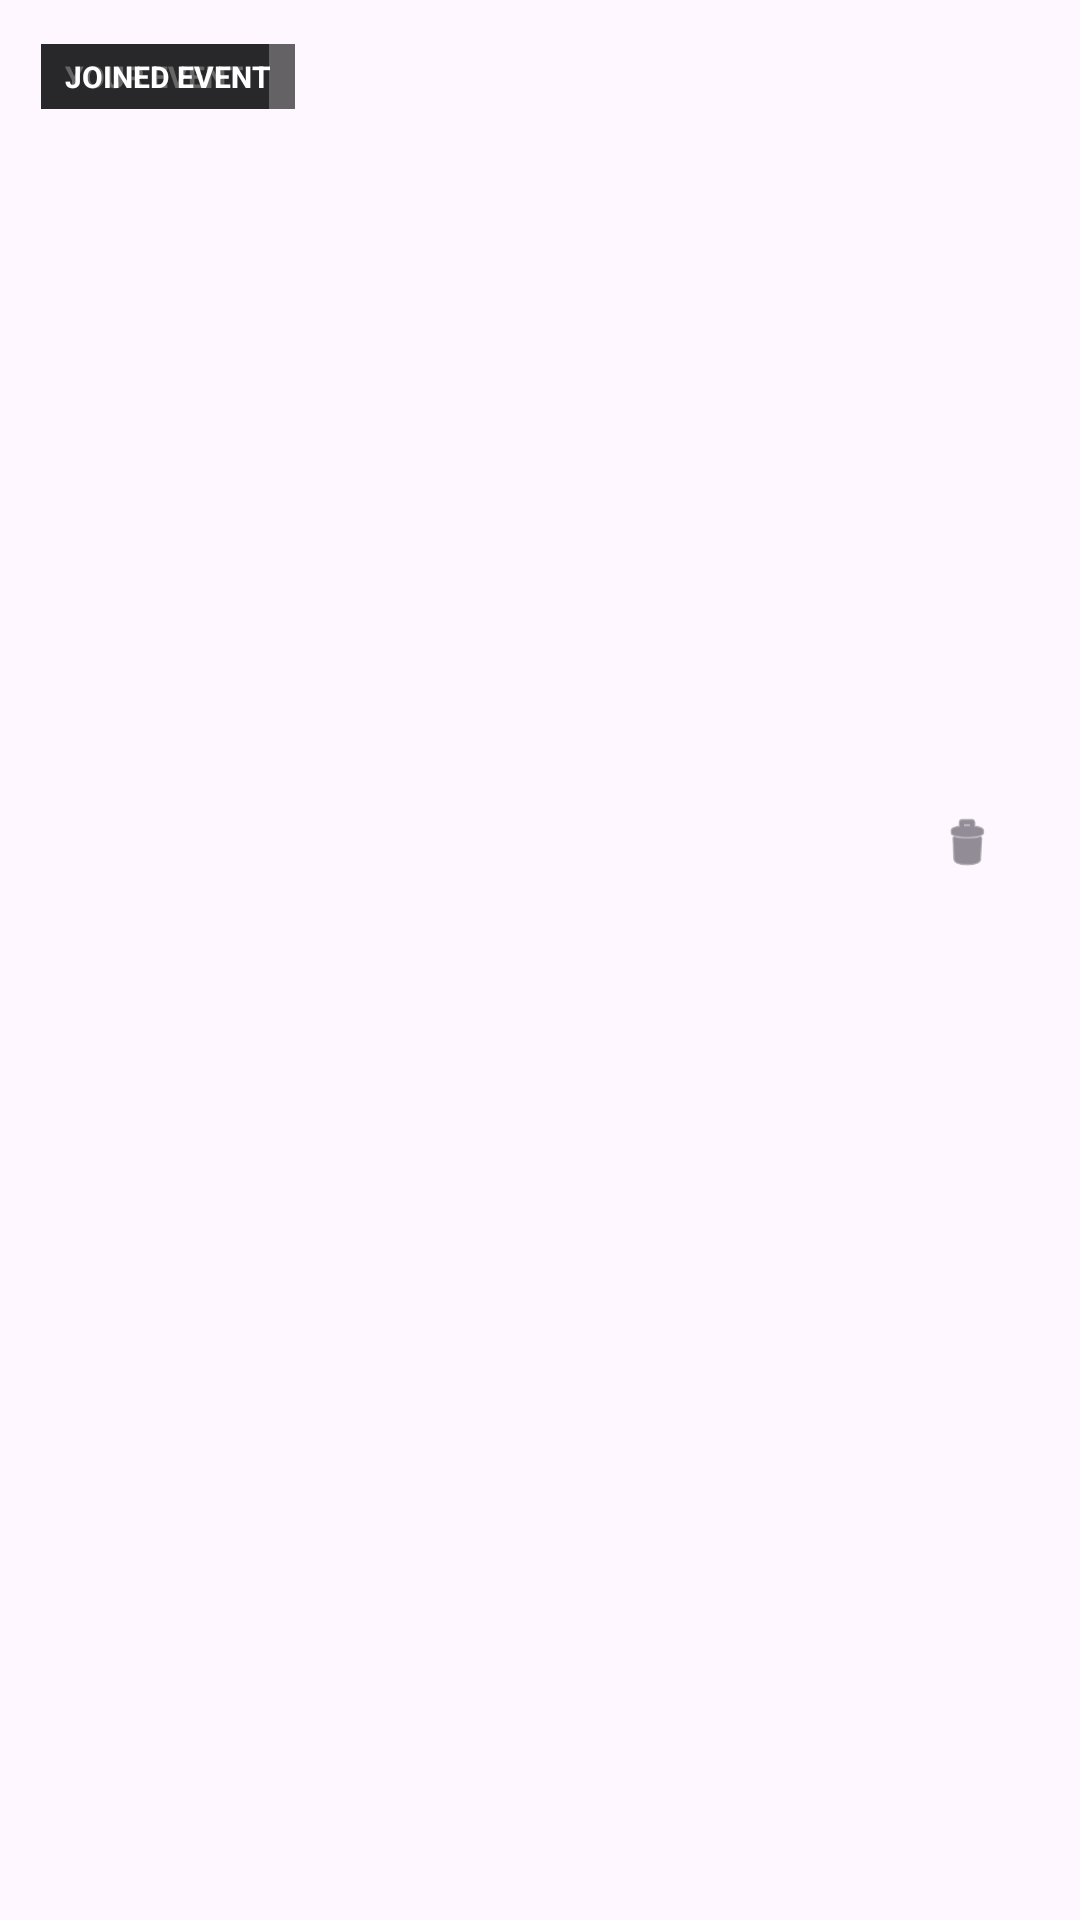

Screen size 1080 x 1920. Icon name, then its center in pixels as (x,y):
delete: (967,842)
